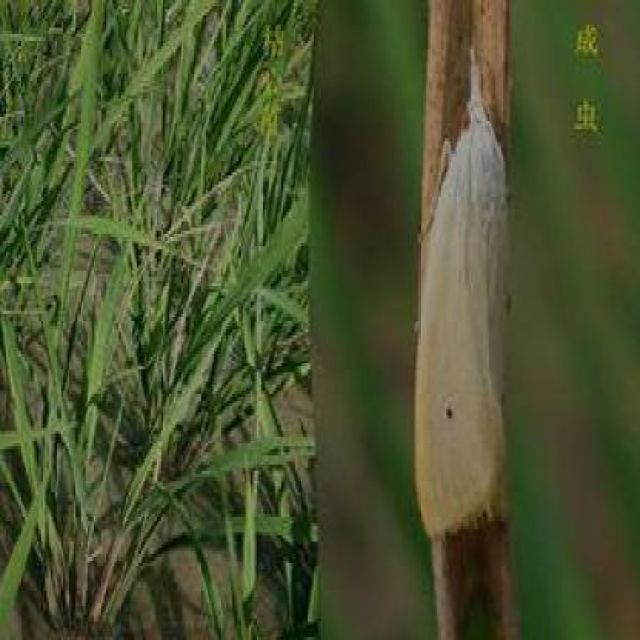stem-borer: (412, 42, 517, 544)
